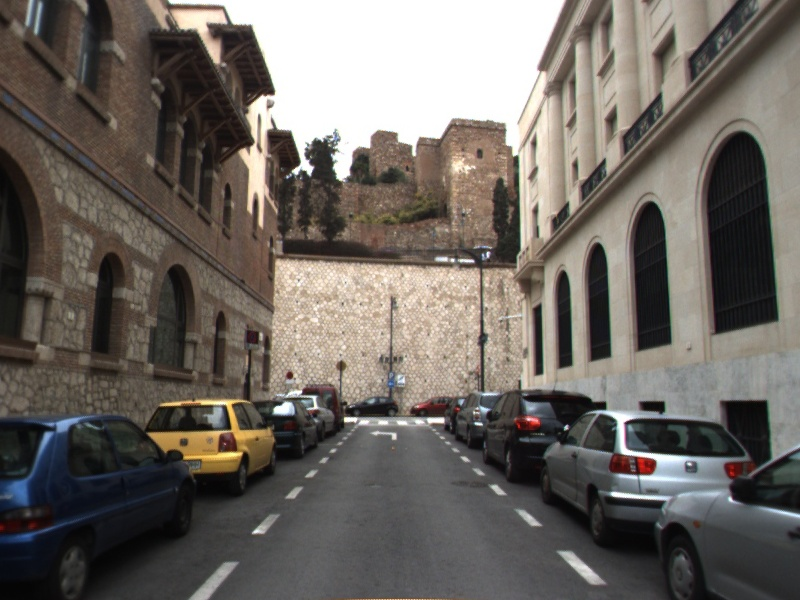LEFT: (367, 428, 400, 442)
